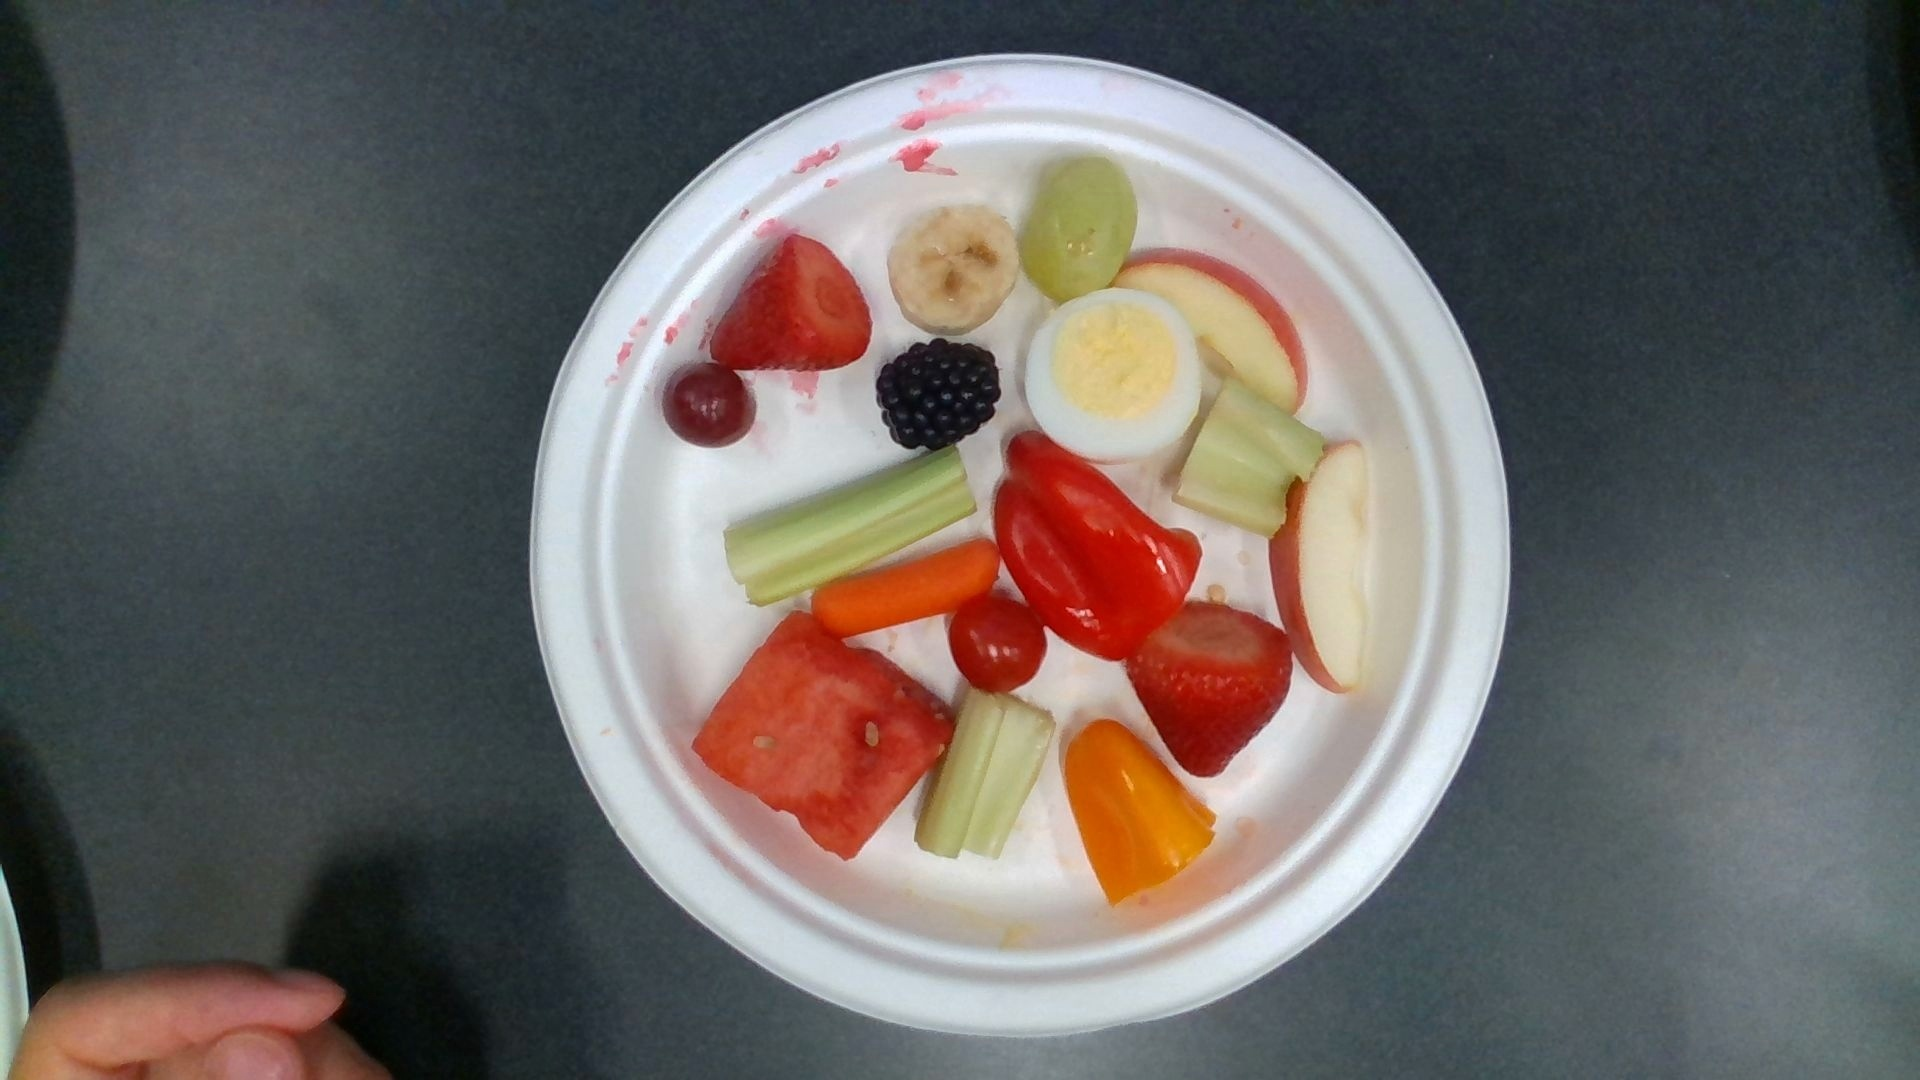apple: (1110, 251, 1305, 413), (1273, 440, 1360, 690)
banana: (891, 208, 1019, 334)
bell_pepper: (996, 431, 1200, 661), (1065, 720, 1212, 901)
blackberry: (877, 340, 1002, 444)
carrot: (815, 541, 992, 636)
celery: (724, 446, 975, 608), (1178, 381, 1323, 535), (919, 690, 1048, 853)
cherry_tomato: (949, 595, 1044, 688)
egg: (1027, 290, 1200, 455)
grape_green: (1022, 158, 1137, 298)
grape_purple: (665, 365, 752, 446)
melon: (699, 616, 949, 853)
strawberry: (1129, 603, 1290, 775), (713, 236, 872, 371)
